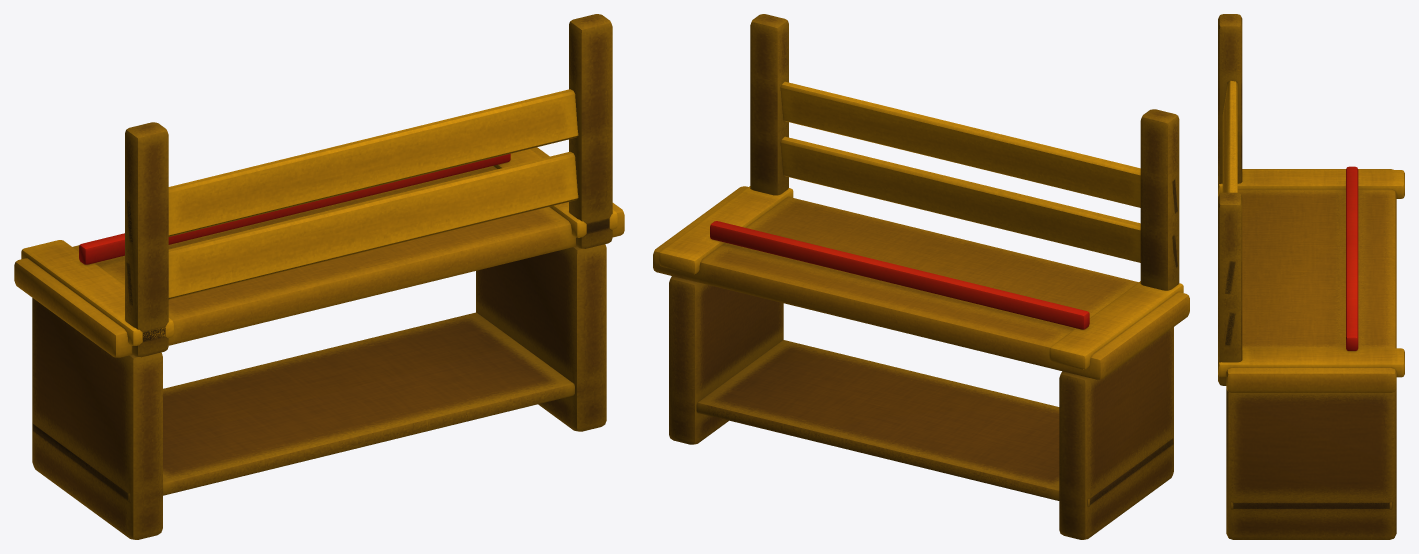
The model's file is DeckBench.fbx.
The picture shows the model from 3 angles, left to right: view 1: azimuth 30°, elevation 25°; view 2: azimuth 150°, elevation 25°; view 3: azimuth 270°, elevation 25°; orthographic projection. The views are drawn at different scales.
Parts seen in each view (by area): view 1: DeckBench; view 2: DeckBench; view 3: DeckBench.
Boxes of the visible parts, x1,y1,x2,y2 form: DeckBench: (14,14,624,539); DeckBench: (653,14,1189,539); DeckBench: (1218,14,1404,539).
Size of the model in its own units: 1.2 by 0.92 by 0.46.
